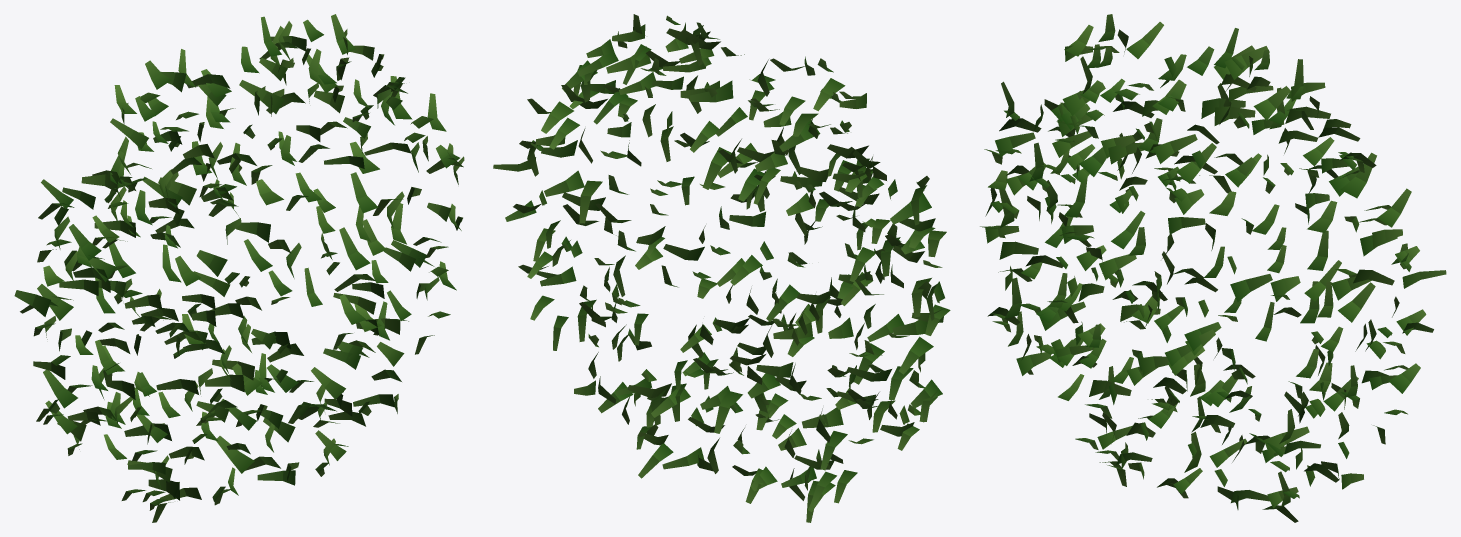
File: Grass_Tile_Waterside.glb
The picture shows the model from 3 angles, left to right: view 1: azimuth 30°, elevation 25°; view 2: azimuth 150°, elevation 25°; view 3: azimuth 330°, elevation 25°; orthographic projection. The views are drawn at different scales.
Visible parts, largest first — view 1: Grass_Tile_Waterside; view 2: Grass_Tile_Waterside; view 3: Grass_Tile_Waterside.
Part boxes in pixels (x1,y1,x2,y2): Grass_Tile_Waterside: (14,14,464,522); Grass_Tile_Waterside: (493,14,950,522); Grass_Tile_Waterside: (980,14,1446,522).
Size of the model in its own units: 1.85 by 1.88 by 0.1347.
